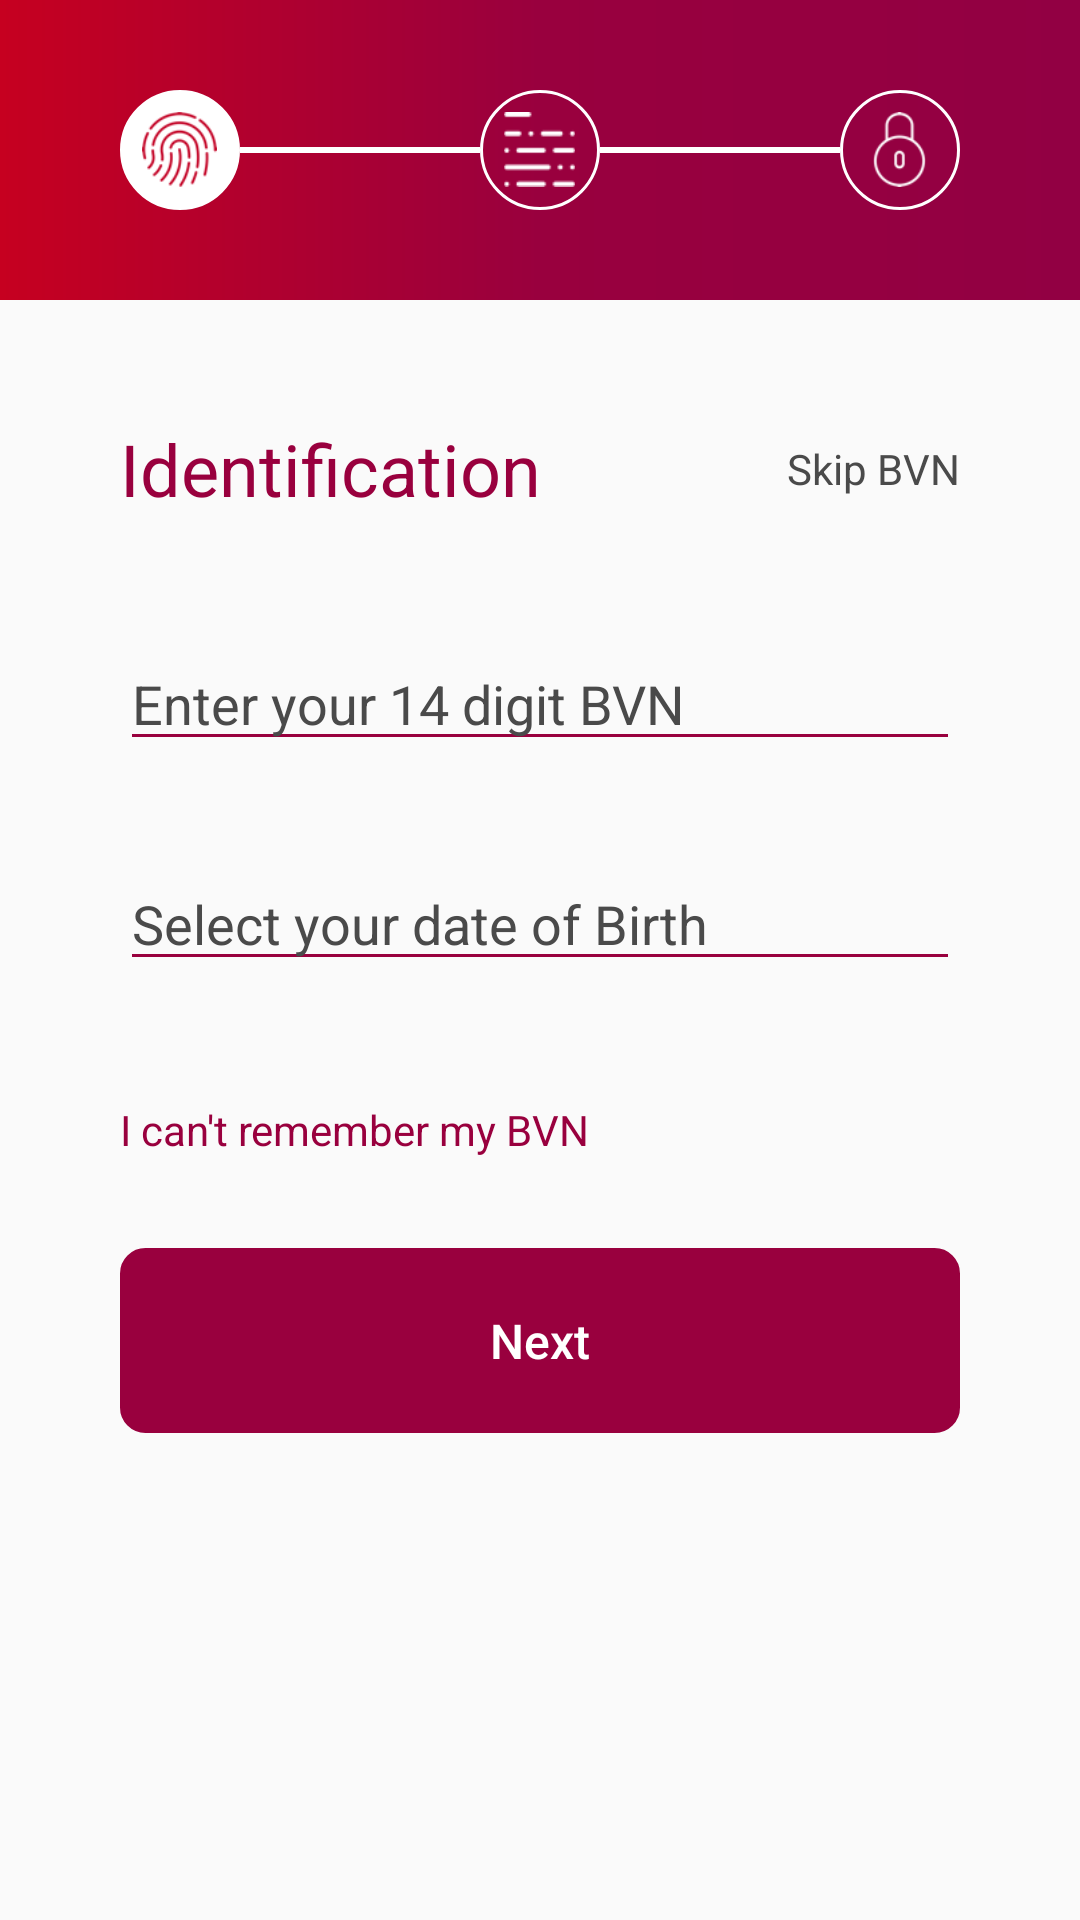

Screen size 1080w x 1920h. Icon name, then its center in pixels as point (x, y):
document: point (539, 149)
fingerprint: point (179, 149)
locked: point (899, 149)
